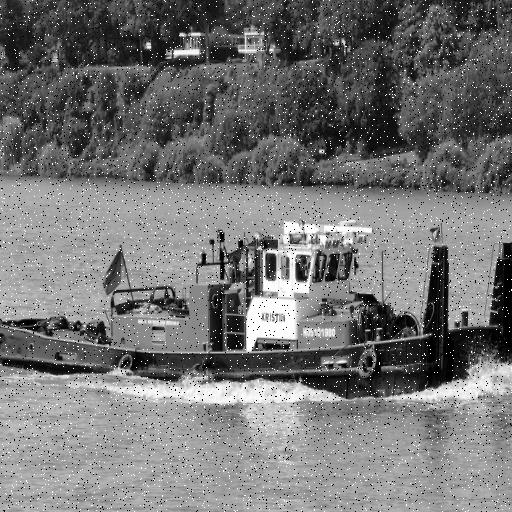tugboat: (1, 202, 512, 422)
